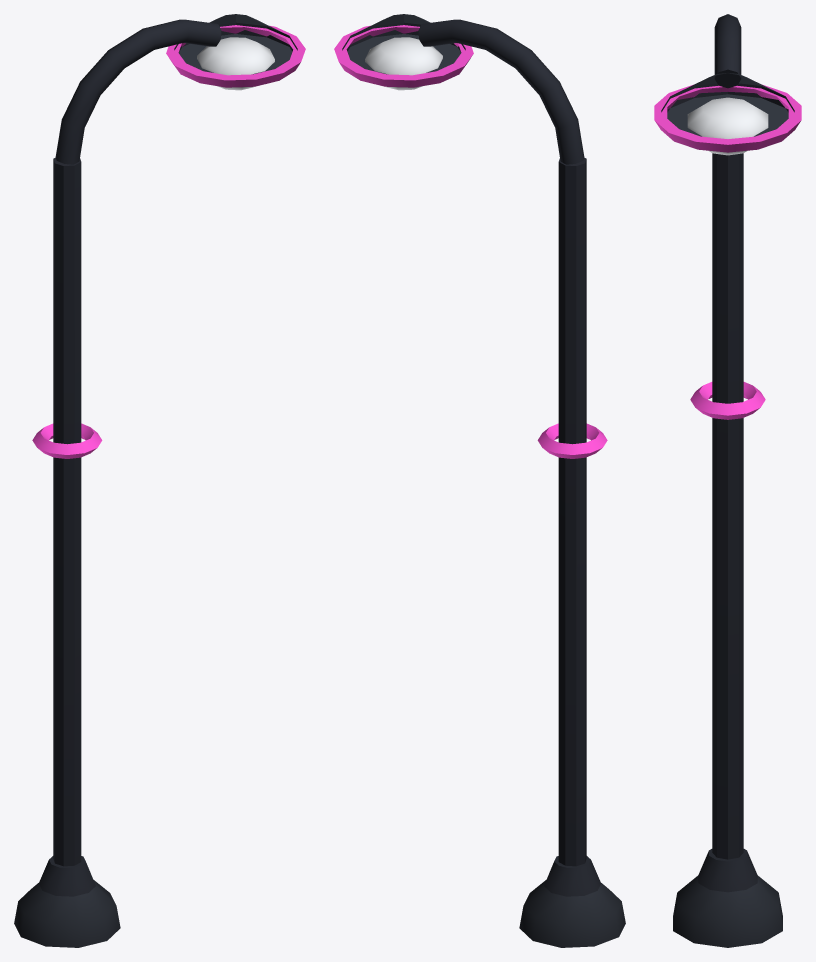
The model's file is lamp_neon.glb.
The picture shows the model from 3 angles, left to right: view 1: azimuth 30°, elevation 25°; view 2: azimuth 150°, elevation 25°; view 3: azimuth 270°, elevation 25°; orthographic projection. The views are drawn at different scales.
Visible parts, largest first — view 1: Body, Glow; view 2: Body, Glow; view 3: Body, Glow.
Part boxes in pixels (x1,y1,x2,y2): Body: [14, 14, 297, 947]; Glow: [32, 25, 305, 458]; Body: [342, 14, 625, 947]; Glow: [334, 25, 607, 458]; Body: [661, 14, 794, 947]; Glow: [654, 84, 801, 419].
Bounding box in the file's own units: 1.55 × 4.7 × 0.6636.
